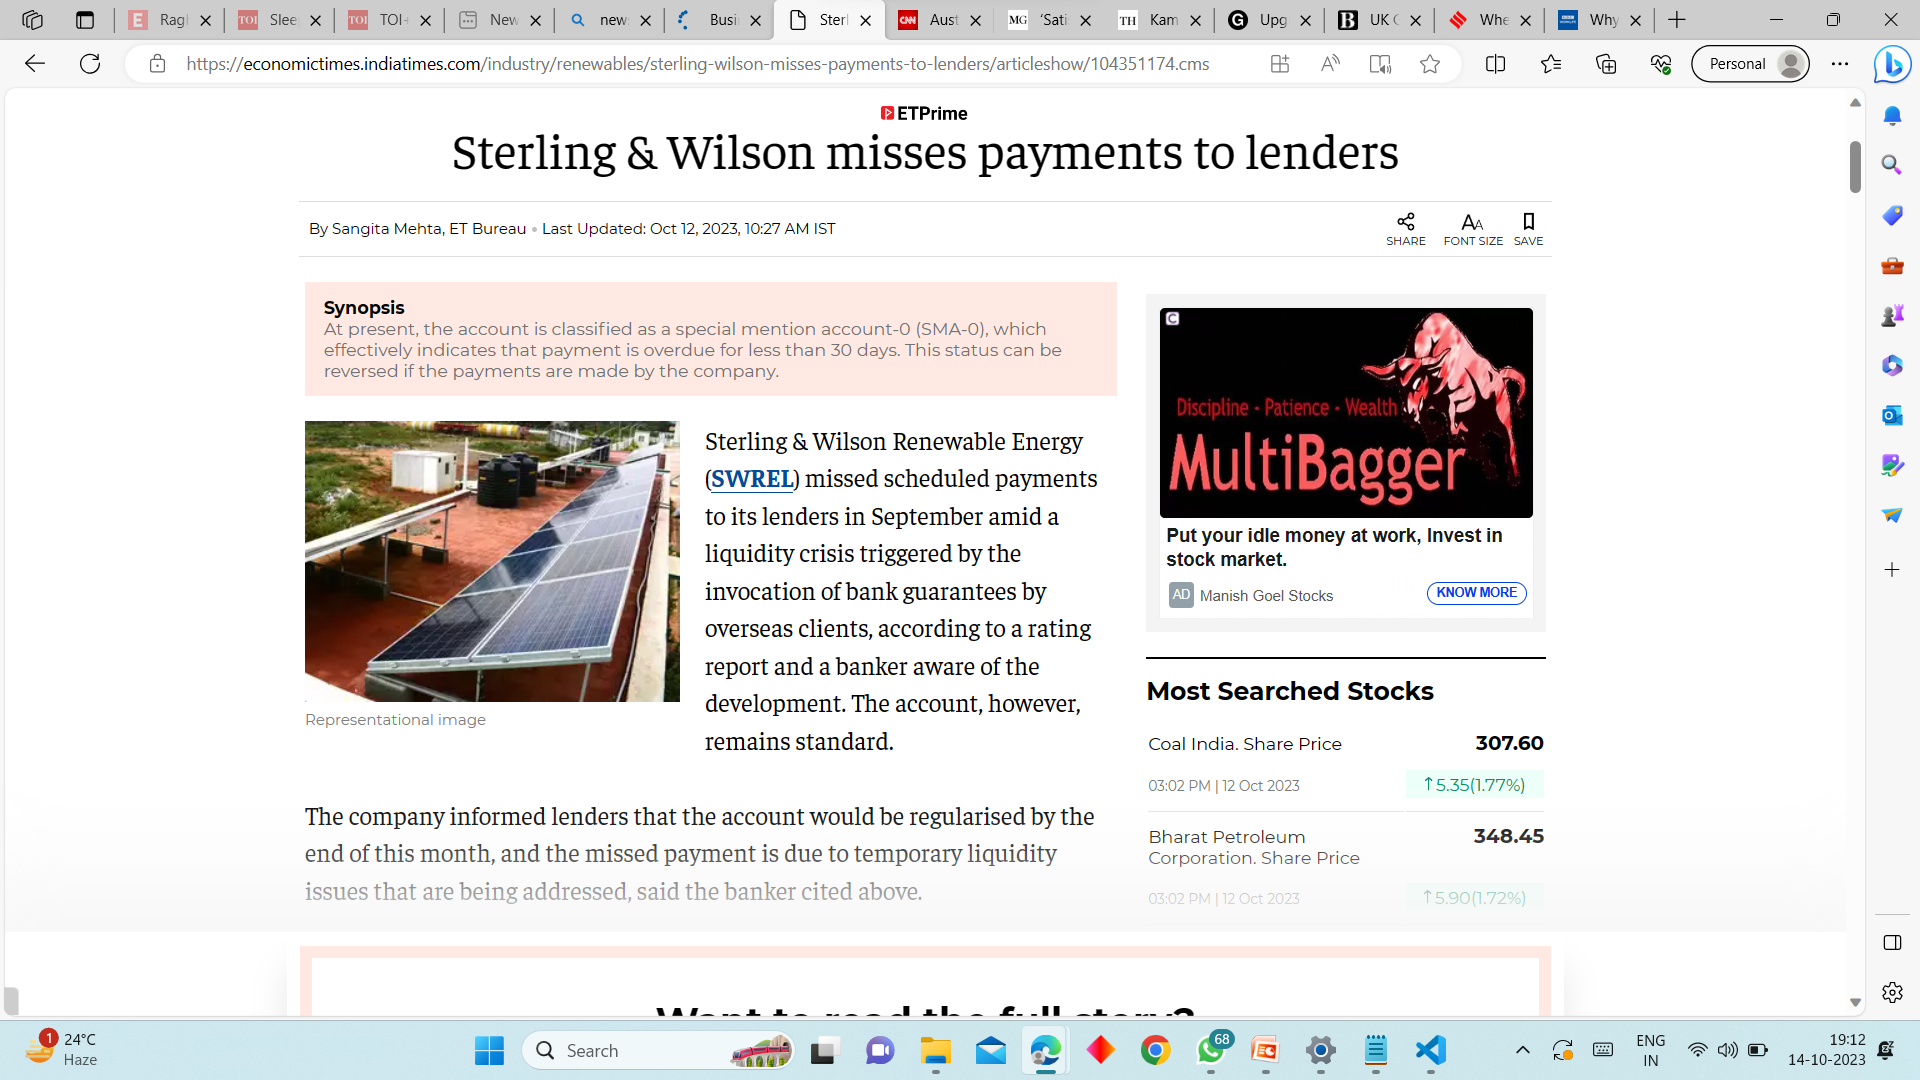Image: (1152, 297, 1543, 637), (1143, 664, 1576, 919), (304, 427, 682, 698), (302, 941, 1572, 1020)
Paragraph: (689, 418, 1109, 756), (418, 94, 1449, 188), (300, 794, 1091, 915), (329, 324, 1071, 396), (295, 208, 843, 259), (1368, 210, 1442, 248), (311, 709, 492, 724), (326, 293, 445, 315), (1509, 215, 1570, 250), (1451, 215, 1503, 246), (930, 92, 955, 103)
